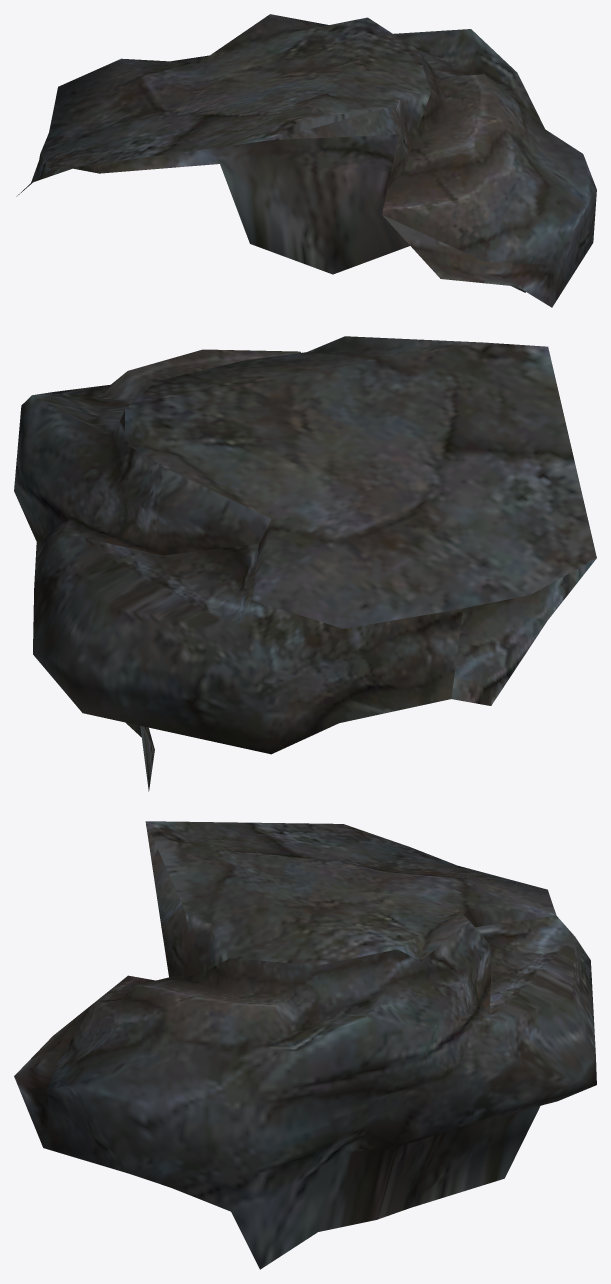
File: S_Rock_Yellow036_H17.FBX
The picture shows the model from 3 angles, top to bottom: view 1: azimuth 30°, elevation 25°; view 2: azimuth 150°, elevation 25°; view 3: azimuth 270°, elevation 25°; orthographic projection. The views are drawn at different scales.
Visible parts, largest first — view 1: S_Rock_Yellow036_H17; view 2: S_Rock_Yellow036_H17; view 3: S_Rock_Yellow036_H17.
Boxes of the visible parts, left/top/right/bottom form: S_Rock_Yellow036_H17: left=16, top=14, right=596, bottom=307; S_Rock_Yellow036_H17: left=14, top=336, right=596, bottom=791; S_Rock_Yellow036_H17: left=14, top=821, right=596, bottom=1269.
Bounding box in the file's own units: 795 × 815 × 450.
1 material, 1 textured.
